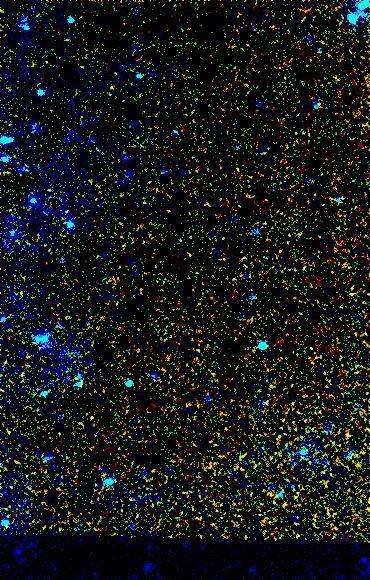star: (97, 76, 127, 106)
